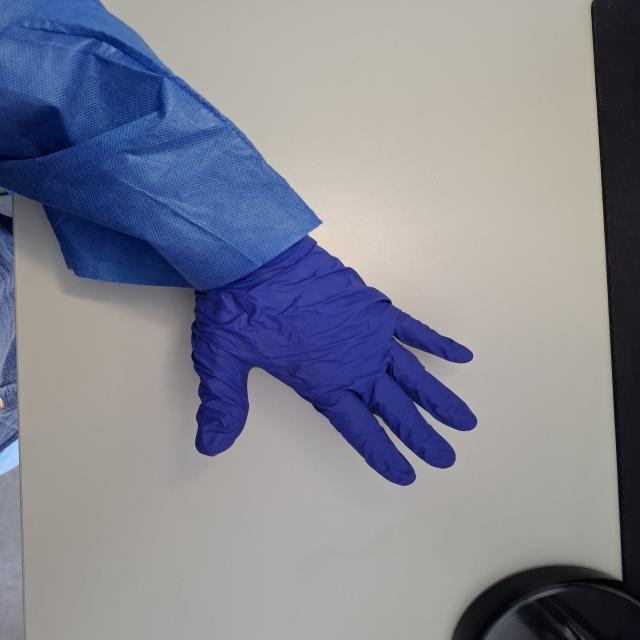glove_on: (180, 232, 482, 490)
